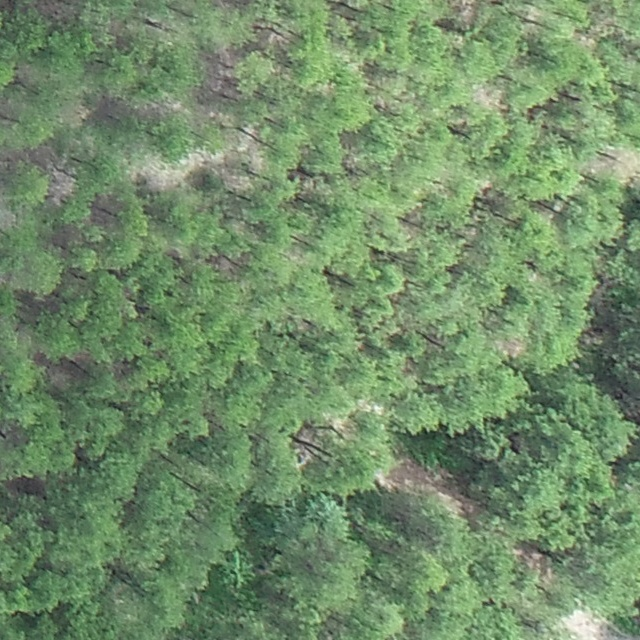unhealthy: (588, 143, 640, 185), (46, 169, 77, 205), (493, 337, 526, 359)
